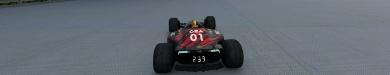Car: (152, 15, 243, 72)
obstacles-Borders: (0, 0, 72, 8)
